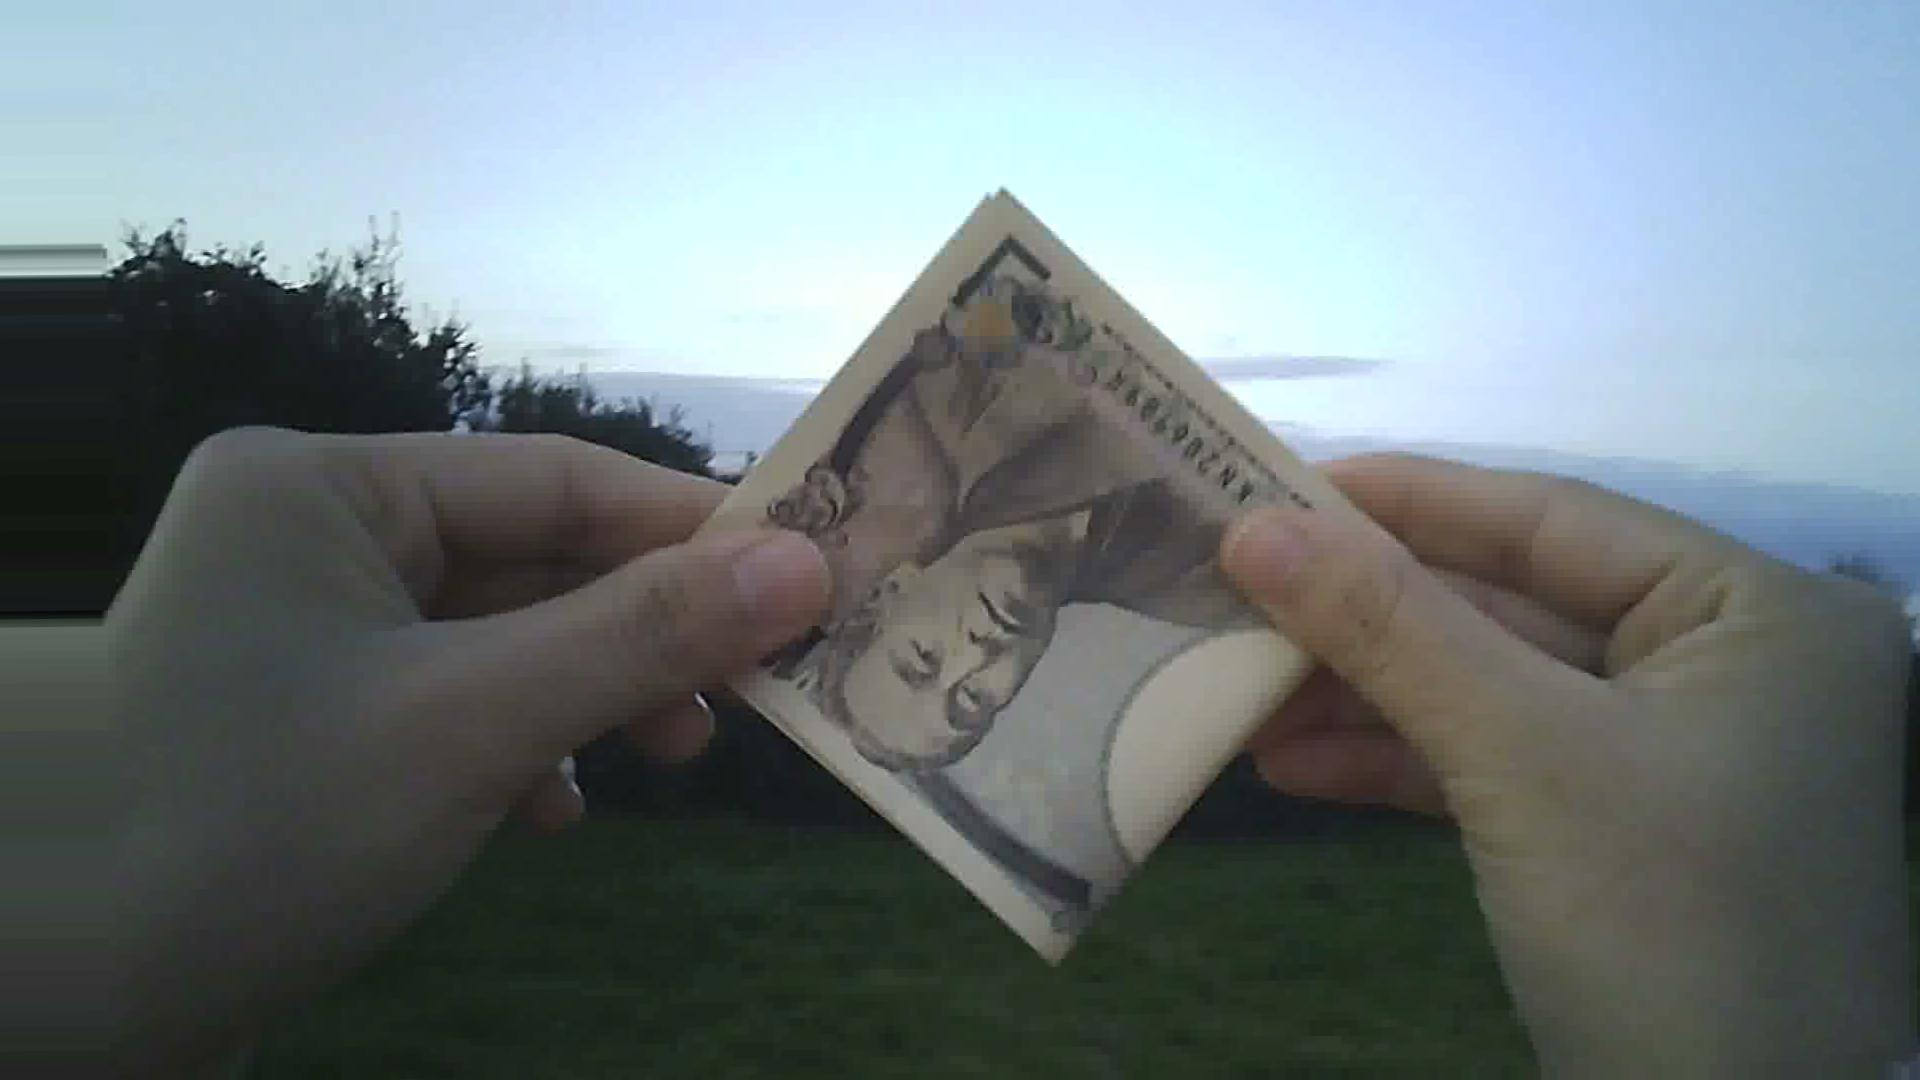10,000 Yen: (611, 170, 1433, 971)
